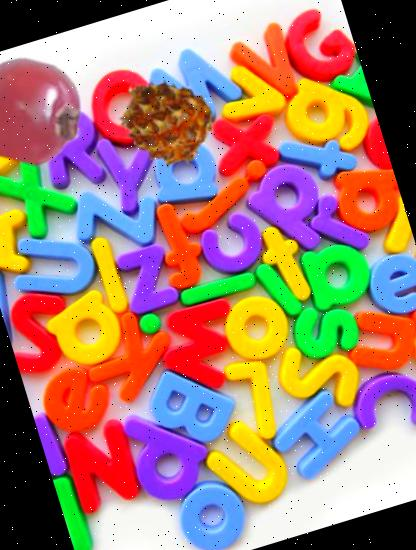Pineapple: (106, 64, 225, 183)
Redcurrant: (0, 41, 97, 180)
